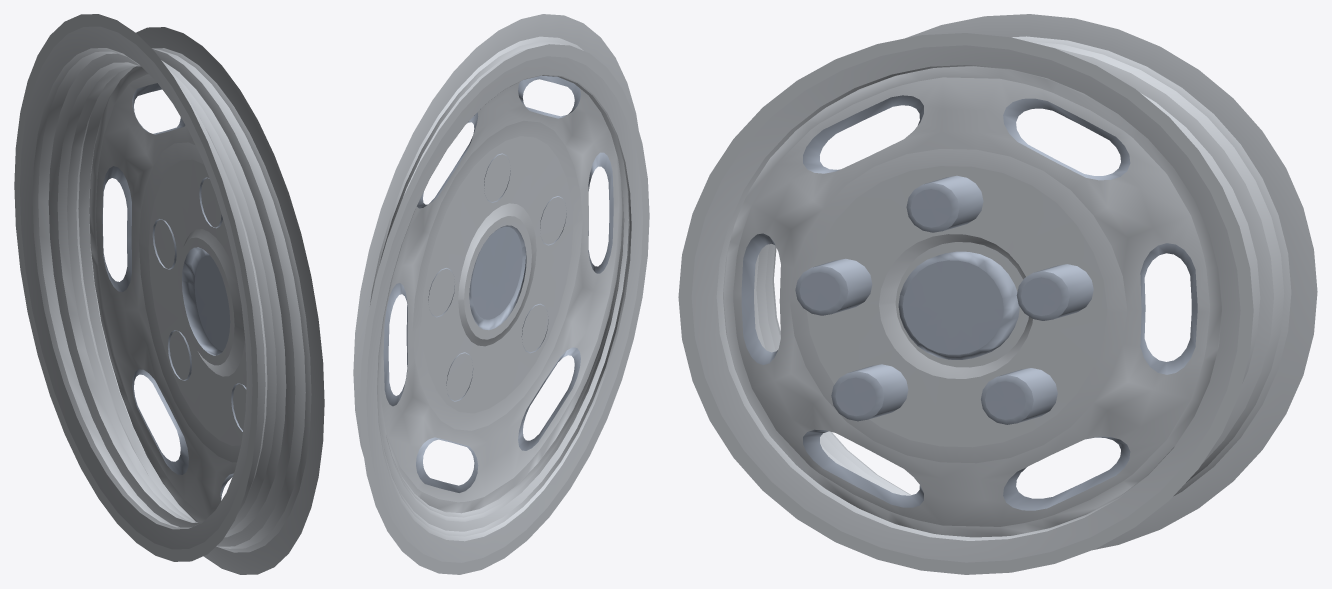
File: jac_steel_rims.glb
3 renders of one model, left to right at view 1: azimuth 30°, elevation 25°; view 2: azimuth 150°, elevation 25°; view 3: azimuth 270°, elevation 25°, orthographic. The views are drawn at different scales.
Visible parts, largest first — view 1: chrome, steel; view 2: chrome, steel; view 3: chrome, steel.
Part boxes in pixels (x1=…): chrome: x1=14, y1=14, x2=324, y2=574; steel: x1=102, y1=83, x2=246, y2=500; chrome: x1=353, y1=14, x2=649, y2=574; steel: x1=383, y1=75, x2=613, y2=492; chrome: x1=678, y1=14, x2=1317, y2=574; steel: x1=741, y1=95, x2=1197, y2=510.
Size of the model in its own units: 0.112 by 0.7171 by 0.7662.
